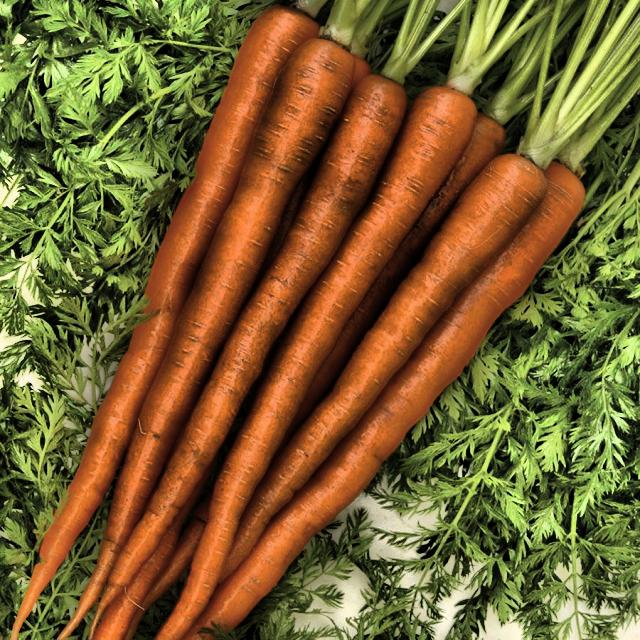carrot: (32, 0, 619, 640)
